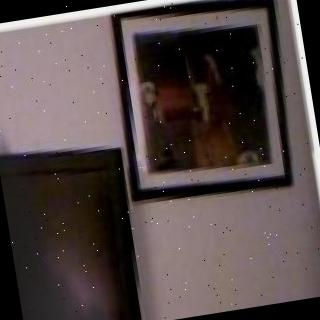smoke: (0, 86, 117, 320)
